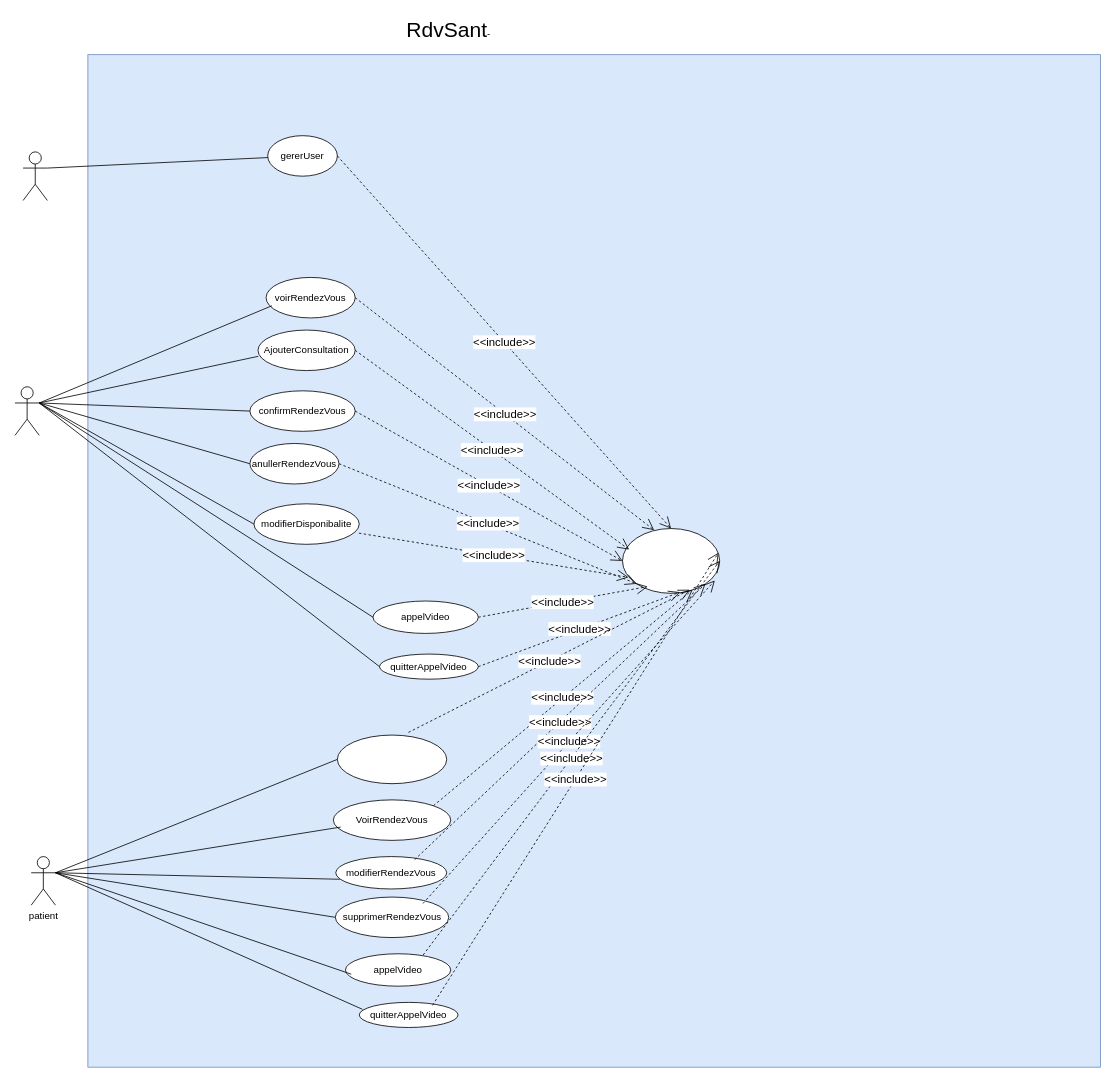
Some shapes in this 1115 by 1081 pixel diagram are drawn without their labels. Here are the shapes that lost their labels. From the top down, the centre of each, then its label:
At point (34, 175): "admin".
At point (26, 410): "doctor".
At point (671, 560): "authentification".
At point (392, 759): "RequestRendezVous".
